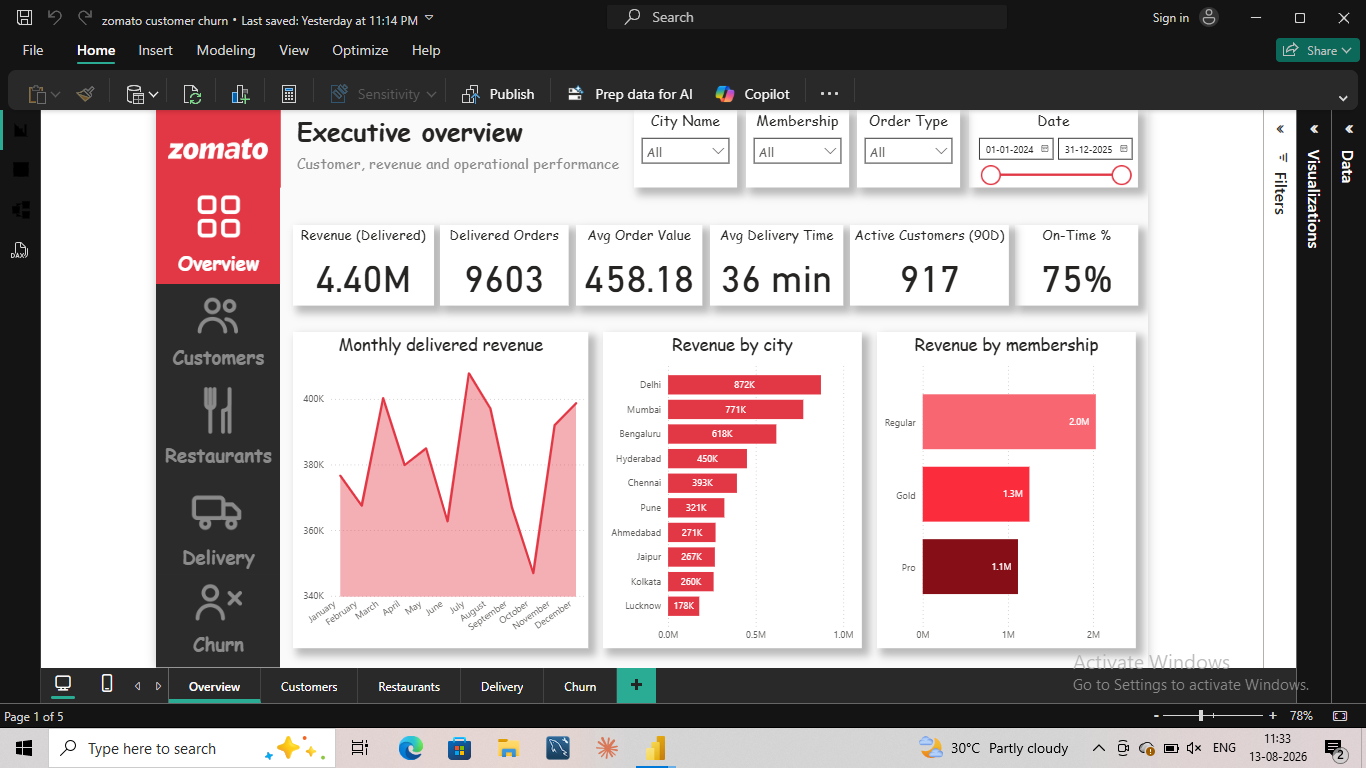

This screenshot's page, from the dashboard's own definition file:
{"tool":"powerbi","page":{"name":"Overview","canvas":[1280,720],"ordinal":0},"visuals":[{"type":"slicer","title":"City Name","fields":{"Values":["cities.city_name"]},"box":[617.3,0,133,99.8],"z":0},{"type":"slicer","title":"Membership","fields":{"Values":["memberships.membership_name"]},"box":[761.9,0,133,99.8],"z":1000},{"type":"slicer","title":"Date","fields":{"Values":["orders.order_datetime"]},"box":[1049.6,0,218.3,99.8],"z":2000},{"type":"textbox","box":[176.3,0,381.4,64.4],"z":3000},{"type":"shape","box":[0,99.8,160.5,125.8],"z":3000,"group":"g2"},{"type":"textbox","box":[176.3,50.8,450.8,62.7],"z":4000},{"type":"shape","box":[0,224.1,160.5,124.3],"z":4000,"group":"g3"},{"type":"card","title":"Revenue (Delivered)","fields":{"Values":["orders.Revenue (Delivered)"]},"box":[176.8,148.4,181.5,104.2],"z":5000},{"type":"shape","box":[0,347,160.5,124.3],"z":5000,"group":"g4"},{"type":"lineChart","title":"Monthly delivered revenue","fields":{"Y":["Sum(orders.final_amount)"],"Category":["orders.order_datetime.Variation.Date Hierarchy.Month"]},"box":[176.3,286.4,381.4,408.5],"z":6000},{"type":"shape","box":[0,468.1,160.4,131.4],"z":6000,"group":"g6"},{"type":"barChart","title":"Revenue by city","fields":{"Category":["cities.city_name"],"Y":["orders.Revenue (Delivered)"]},"box":[576.3,286.4,333.9,408.5],"z":7000},{"type":"shape","box":[0,593.9,160.5,125.8],"z":7000,"group":"g5"},{"type":"shape","box":[0,0,161,100],"z":8000,"group":"g1"},{"type":"barChart","title":"Revenue by membership","fields":{"Category":["memberships.membership_name"],"Y":["orders.Revenue (Delivered)"]},"box":[930.5,286.4,333.9,408.5],"z":8000},{"type":"image","box":[18.6,100,125.4,76.3],"z":9000,"group":"g2"},{"type":"card","title":"Delivered Orders","fields":{"Values":["orders.Delivered Orders"]},"box":[366.2,148.4,165.7,104.2],"z":9000},{"type":"image","box":[0,8.7,160.5,82.4],"z":10000,"group":"g1"},{"type":"card","title":"Avg Order Value","fields":{"Values":["orders.Avg Order Value"]},"box":[542.6,147.8,162.9,104.1],"z":10000},{"type":"card","title":"Avg Delivery Time","fields":{"Values":["deliveries.Avg Delivery Time Min"]},"box":[715,148.4,172,104.2],"z":11000},{"type":"textbox","box":[0,176.3,161,47.5],"z":11000,"group":"g2"},{"type":"card","title":"On-Time %","fields":{"Values":["deliveries.On-Time %"]},"box":[1108,148.4,159.4,104.2],"z":12000},{"type":"textbox","box":[0,296.6,161,52.5],"z":12000,"group":"g3"},{"type":"slicer","title":"Order Type","fields":{"Values":["orders.order_type"]},"box":[905.1,0,133,99.8],"z":13000},{"type":"textbox","box":[0,423.7,161,52.5],"z":13000,"group":"g4"},{"type":"card","title":"Active Customers (90D)","fields":{"Values":["CountNonNull(customers.Customer Status)"]},"box":[894.9,148.4,205.2,104.2],"z":14000},{"type":"textbox","box":[0,554.4,160.9,45.3],"z":14000,"group":"g6"},{"type":"group","id":"g1","title":"Group 1","box":[0,0,161,100],"z":15000},{"type":"textbox","box":[0,667.5,161,52.5],"z":15000,"group":"g5"},{"type":"group","id":"g2","title":"Group 2","box":[0,99.8,161,125.8],"z":16000},{"type":"image","box":[18.6,225.4,125.4,76.3],"z":16000,"group":"g3"},{"type":"group","id":"g3","title":"Group 3","box":[0,224.1,161,125.1],"z":17000},{"type":"image","box":[18.6,349.2,125.4,76.3],"z":17000,"group":"g4"},{"type":"group","id":"g4","title":"Group 4","box":[0,347,161,129.3],"z":18000},{"type":"image","box":[18.6,474.8,125.3,79.7],"z":18000,"group":"g6"},{"type":"group","id":"g5","title":"Group 6","box":[0,593.9,160.9,125.8],"z":19000},{"type":"image","box":[18.6,596.3,125.4,76.3],"z":19000,"group":"g5"},{"type":"group","id":"g6","title":"Group 5","box":[0,468.1,160.9,131.7],"z":20000},{"type":"actionButton","box":[0,222.4,160.9,124.3],"z":21000},{"type":"actionButton","box":[0,343.8,160.9,124.3],"z":22000},{"type":"actionButton","box":[0,475.4,160.9,124.3],"z":23000},{"type":"actionButton","box":[0,595.4,160.9,124.3],"z":24000}]}

Visuals, with their boxes on the page's 1280x720 design canvas (x1, y1, x2, y2). These are canvas units, not pixel positions in the 1366x768 screenshot, which may show the page scaled, cropped or inside an application window:
"City Name" slicer: <region>617, 0, 750, 100</region>
"Membership" slicer: <region>762, 0, 895, 100</region>
"Date" slicer: <region>1050, 0, 1268, 100</region>
textbox: <region>176, 0, 558, 64</region>
shape: <region>0, 100, 160, 226</region>
textbox: <region>176, 51, 627, 114</region>
shape: <region>0, 224, 160, 348</region>
"Revenue (Delivered)" card: <region>177, 148, 358, 253</region>
shape: <region>0, 347, 160, 471</region>
"Monthly delivered revenue" lineChart: <region>176, 286, 558, 695</region>
shape: <region>0, 468, 160, 600</region>
"Revenue by city" barChart: <region>576, 286, 910, 695</region>
shape: <region>0, 594, 160, 720</region>
shape: <region>0, 0, 161, 100</region>
"Revenue by membership" barChart: <region>930, 286, 1264, 695</region>
image: <region>19, 100, 144, 176</region>
"Delivered Orders" card: <region>366, 148, 532, 253</region>
image: <region>0, 9, 160, 91</region>
"Avg Order Value" card: <region>543, 148, 706, 252</region>
"Avg Delivery Time" card: <region>715, 148, 887, 253</region>
textbox: <region>0, 176, 161, 224</region>
"On-Time %" card: <region>1108, 148, 1267, 253</region>
textbox: <region>0, 297, 161, 349</region>
"Order Type" slicer: <region>905, 0, 1038, 100</region>
textbox: <region>0, 424, 161, 476</region>
"Active Customers (90D)" card: <region>895, 148, 1100, 253</region>
textbox: <region>0, 554, 161, 600</region>
"Group 1" group: <region>0, 0, 161, 100</region>
textbox: <region>0, 668, 161, 720</region>
"Group 2" group: <region>0, 100, 161, 226</region>
image: <region>19, 225, 144, 302</region>
"Group 3" group: <region>0, 224, 161, 349</region>
image: <region>19, 349, 144, 426</region>
"Group 4" group: <region>0, 347, 161, 476</region>
image: <region>19, 475, 144, 554</region>
"Group 6" group: <region>0, 594, 161, 720</region>
image: <region>19, 596, 144, 673</region>
"Group 5" group: <region>0, 468, 161, 600</region>
actionButton: <region>0, 222, 161, 347</region>
actionButton: <region>0, 344, 161, 468</region>
actionButton: <region>0, 475, 161, 600</region>
actionButton: <region>0, 595, 161, 720</region>
